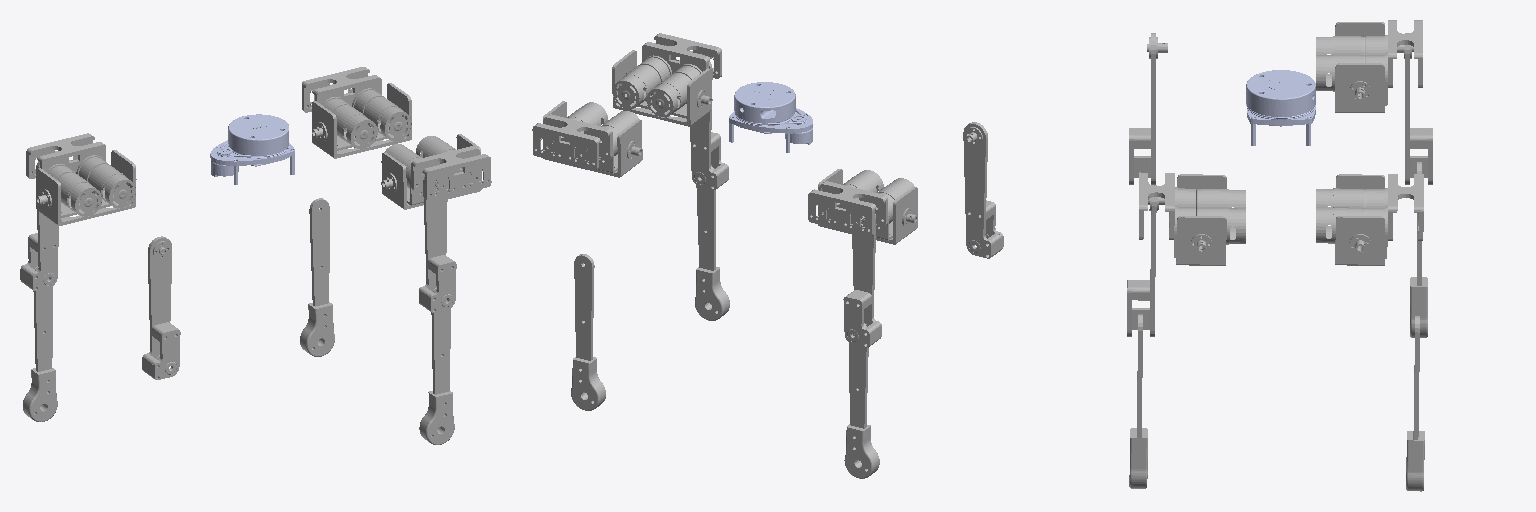
robot.urdf — train_dog_full_foot:
<?xml version="1.0" encoding="utf-8"?>
<!-- This URDF was automatically created by SolidWorks to URDF Exporter! Originally created by [author] ([email redacted]) 
     Commit Version: 1.6.0-1-g15f4949  Build Version: 1.6.7594.29634
     For more information, please see http://wiki.ros.org/sw_urdf_exporter -->
<robot
  name="train_dog_full_foot">
  <link
    name="base_link">
    <inertial>
      <origin
        xyz="0.00236489702334556 -5.91786932752081E-06 -0.0142510828075822"
        rpy="0 0 0" />
      <mass
        value="1.26277058878881" />
      <inertia
        ixx="0.00419953664437585"
        ixy="-5.80918949629586E-09"
        ixz="7.23254112115281E-06"
        iyy="0.00329637735882426"
        iyz="5.41350065733206E-10"
        izz="0.00687786867050381" />
    </inertial>
    <visual>
      <origin
        xyz="0 0 0"
        rpy="0 0 0" />
      <geometry>
        <mesh
          filename="package://train_dog_full_foot/meshes/base_link.STL" />
      </geometry>
      <material
        name="">
        <color
          rgba="0.752941176470588 0.752941176470588 0.752941176470588 1" />
      </material>
    </visual>
    <collision>
      <origin
        xyz="0 0 0"
        rpy="0 0 0" />
      <geometry>
        <mesh
          filename="package://train_dog_full_foot/meshes/base_link.STL" />
      </geometry>
    </collision>
  </link>
  <link
    name="lidar_link">
    <inertial>
      <origin
        xyz="-0.00576993166002146 -0.000337492823115196 0.0144383216860659"
        rpy="0 0 0" />
      <mass
        value="0.142992069515117" />
      <inertia
        ixx="4.62768458751422E-05"
        ixy="-8.53425878441539E-07"
        ixz="-3.62176045397522E-06"
        iyy="7.34715191336753E-05"
        iyz="2.04241589925864E-07"
        izz="0.000107957357997996" />
    </inertial>
    <visual>
      <origin
        xyz="0 0 0"
        rpy="0 0 0" />
      <geometry>
        <mesh
          filename="package://train_dog_full_foot/meshes/lidar_link.STL" />
      </geometry>
      <material
        name="">
        <color
          rgba="0.792156862745098 0.819607843137255 0.933333333333333 1" />
      </material>
    </visual>
    <collision>
      <origin
        xyz="0 0 0"
        rpy="0 0 0" />
      <geometry>
        <mesh
          filename="package://train_dog_full_foot/meshes/lidar_link.STL" />
      </geometry>
    </collision>
  </link>
  <joint
    name="lidar_joint"
    type="fixed">
    <origin
      xyz="0 0 0"
      rpy="0 0 0" />
    <parent
      link="base_link" />
    <child
      link="lidar_link" />
    <axis
      xyz="0 0 0" />
  </joint>
  <link
    name="rf_hip_link">
    <inertial>
      <origin
        xyz="0.0494730376983105 -0.0150434281833299 0.00301418526737343"
        rpy="0 0 0" />
      <mass
        value="0.110796689932406" />
      <inertia
        ixx="4.10359142267942E-05"
        ixy="9.54808544037731E-10"
        ixz="-5.49776572211449E-10"
        iyy="0.00010573669451886"
        iyz="1.80269633038169E-06"
        izz="0.000105542554331478" />
    </inertial>
    <visual>
      <origin
        xyz="0 0 0"
        rpy="0 0 0" />
      <geometry>
        <mesh
          filename="package://train_dog_full_foot/meshes/rf_hip_link.STL" />
      </geometry>
      <material
        name="">
        <color
          rgba="0.752941176470588 0.752941176470588 0.752941176470588 1" />
      </material>
    </visual>
    <collision>
      <origin
        xyz="0 0 0"
        rpy="0 0 0" />
      <geometry>
        <mesh
          filename="package://train_dog_full_foot/meshes/rf_hip_link.STL" />
      </geometry>
    </collision>
  </link>
  <joint
    name="rf_hip_joint"
    type="continuous">
    <origin
      xyz="0.1325 -0.0798899999999921 -0.0342976400491808"
      rpy="0 0 0" />
    <parent
      link="base_link" />
    <child
      link="rf_hip_link" />
    <axis
      xyz="-1 0 0" />
  </joint>
  <link
    name="rf_upper_link">
    <inertial>
      <origin
        xyz="-0.00214105775503126 0.00718603950643992 -0.084916045491464"
        rpy="0 0 0" />
      <mass
        value="0.0381858196620344" />
      <inertia
        ixx="4.56120104484874E-05"
        ixy="-2.39464031883898E-08"
        ixz="-1.71517217998475E-06"
        iyy="4.75905522135306E-05"
        iyz="-6.28798951756866E-07"
        izz="2.56040064315188E-06" />
    </inertial>
    <visual>
      <origin
        xyz="0 0 0"
        rpy="0 0 0" />
      <geometry>
        <mesh
          filename="package://train_dog_full_foot/meshes/rf_upper_link.STL" />
      </geometry>
      <material
        name="">
        <color
          rgba="0.752941176470588 0.752941176470588 0.752941176470588 1" />
      </material>
    </visual>
    <collision>
      <origin
        xyz="0 0 0"
        rpy="0 0 0" />
      <geometry>
        <mesh
          filename="package://train_dog_full_foot/meshes/rf_upper_link.STL" />
      </geometry>
    </collision>
  </link>
  <joint
    name="rf_upper_joint"
    type="continuous">
    <origin
      xyz="0.0269999999999999 -0.0628123830812422 0.0138782034736232"
      rpy="0 0 0" />
    <parent
      link="rf_hip_link" />
    <child
      link="rf_upper_link" />
    <axis
      xyz="0 0.999902556615601 -0.0139598450415945" />
  </joint>
  <link
    name="rf_lower_link">
    <inertial>
      <origin
        xyz="-0.00334779648407044 0.00988222317821961 -0.120380779073118"
        rpy="0 0 0" />
      <mass
        value="0.0434013554264772" />
      <inertia
        ixx="4.26078627929692E-05"
        ixy="-1.57182517526504E-08"
        ixz="-1.12610032464431E-06"
        iyy="4.48671704652794E-05"
        iyz="-5.7198907909598E-07"
        izz="3.90505278745092E-06" />
    </inertial>
    <visual>
      <origin
        xyz="0 0 0"
        rpy="0 0 0" />
      <geometry>
        <mesh
          filename="package://train_dog_full_foot/meshes/rf_lower_link.STL" />
      </geometry>
      <material
        name="">
        <color
          rgba="0.752941176470588 0.752941176470588 0.752941176470588 1" />
      </material>
    </visual>
    <collision>
      <origin
        xyz="0 0 0"
        rpy="0 0 0" />
      <geometry>
        <mesh
          filename="package://train_dog_full_foot/meshes/rf_lower_link.STL" />
      </geometry>
    </collision>
  </link>
  <joint
    name="rf_lower_joint"
    type="continuous">
    <origin
      xyz="0 -0.00994944374978339 -0.13957706811974"
      rpy="0 0 0" />
    <parent
      link="rf_upper_link" />
    <child
      link="rf_lower_link" />
    <axis
      xyz="0 0.999902556615601 -0.0139598450415923" />
  </joint>
  <link
    name="rh_hip_link">
    <inertial>
      <origin
        xyz="-0.0495361239995728 -0.0121004517164508 0.00333734117665012"
        rpy="0 0 0" />
      <mass
        value="0.126255489368789" />
      <inertia
        ixx="4.20937385671924E-05"
        ixy="9.26212791323576E-10"
        ixz="9.15301981486698E-09"
        iyy="0.000106862025701092"
        iyz="1.80316674432087E-06"
        izz="0.000106677222068073" />
    </inertial>
    <visual>
      <origin
        xyz="0 0 0"
        rpy="0 0 0" />
      <geometry>
        <mesh
          filename="package://train_dog_full_foot/meshes/rh_hip_link.STL" />
      </geometry>
      <material
        name="">
        <color
          rgba="0.752941176470588 0.752941176470588 0.752941176470588 1" />
      </material>
    </visual>
    <collision>
      <origin
        xyz="0 0 0"
        rpy="0 0 0" />
      <geometry>
        <mesh
          filename="package://train_dog_full_foot/meshes/rh_hip_link.STL" />
      </geometry>
    </collision>
  </link>
  <joint
    name="rh_hip_joint"
    type="continuous">
    <origin
      xyz="-0.132499999999999 -0.0798900000000018 -0.0342976400491642"
      rpy="0 0 0" />
    <parent
      link="base_link" />
    <child
      link="rh_hip_link" />
    <axis
      xyz="-1 0 0" />
  </joint>
  <link
    name="rh_upper_link">
    <inertial>
      <origin
        xyz="-0.00214105772880144 0.00837075421052934 -0.0848074541012483"
        rpy="0 0 0" />
      <mass
        value="0.0381858200550615" />
      <inertia
        ixx="4.56120104509481E-05"
        ixy="-5.31957908588165E-13"
        ixz="-1.71533933666234E-06"
        iyy="4.75993310281756E-05"
        iyz="-1.19242074978386E-12"
        izz="2.55162184449551E-06" />
    </inertial>
    <visual>
      <origin
        xyz="0 0 0"
        rpy="0 0 0" />
      <geometry>
        <mesh
          filename="package://train_dog_full_foot/meshes/rh_upper_link.STL" />
      </geometry>
      <material
        name="">
        <color
          rgba="0.752941176470588 0.752941176470588 0.752941176470588 1" />
      </material>
    </visual>
    <collision>
      <origin
        xyz="0 0 0"
        rpy="0 0 0" />
      <geometry>
        <mesh
          filename="package://train_dog_full_foot/meshes/rh_upper_link.STL" />
      </geometry>
    </collision>
  </link>
  <joint
    name="rh_upper_joint"
    type="continuous">
    <origin
      xyz="-0.0719999999999999 -0.0630000000000001 0.013"
      rpy="0 0 0" />
    <parent
      link="rh_hip_link" />
    <child
      link="rh_upper_link" />
    <axis
      xyz="0 1 0" />
  </joint>
  <link
    name="rh_lower_link">
    <inertial>
      <origin
        xyz="-0.00334779648450076 0.0115617572454009 -0.12023109445058"
        rpy="0 0 0" />
      <mass
        value="0.0434013554072694" />
      <inertia
        ixx="4.26078627989298E-05"
        ixy="3.46629055176671E-12"
        ixz="-1.12621002811449E-06"
        iyy="4.48751560924244E-05"
        iyz="2.96214287940901E-12"
        izz="3.89706717030293E-06" />
    </inertial>
    <visual>
      <origin
        xyz="0 0 0"
        rpy="0 0 0" />
      <geometry>
        <mesh
          filename="package://train_dog_full_foot/meshes/rh_lower_link.STL" />
      </geometry>
      <material
        name="">
        <color
          rgba="0.752941176470588 0.752941176470588 0.752941176470588 1" />
      </material>
    </visual>
    <collision>
      <origin
        xyz="0 0 0"
        rpy="0 0 0" />
      <geometry>
        <mesh
          filename="package://train_dog_full_foot/meshes/rh_lower_link.STL" />
      </geometry>
    </collision>
  </link>
  <joint
    name="rh_lower_joint"
    type="continuous">
    <origin
      xyz="0 -0.00799999999999998 -0.139702359950835"
      rpy="0 0 0" />
    <parent
      link="rh_upper_link" />
    <child
      link="rh_lower_link" />
    <axis
      xyz="0 1 0" />
  </joint>
  <link
    name="lf_hip_link">
    <inertial>
      <origin
        xyz="0.0495269622868718 0.0151217121138406 0.00259304376253863"
        rpy="0 0 0" />
      <mass
        value="0.110796689886985" />
      <inertia
        ixx="4.10359142199375E-05"
        ixy="9.69729499827842E-10"
        ixz="5.2287739474731E-10"
        iyy="0.000105636298090407"
        iyz="-1.805477813767E-06"
        izz="0.00010564295073898" />
    </inertial>
    <visual>
      <origin
        xyz="0 0 0"
        rpy="0 0 0" />
      <geometry>
        <mesh
          filename="package://train_dog_full_foot/meshes/lf_hip_link.STL" />
      </geometry>
      <material
        name="">
        <color
          rgba="0.752941176470588 0.752941176470588 0.752941176470588 1" />
      </material>
    </visual>
    <collision>
      <origin
        xyz="0 0 0"
        rpy="0 0 0" />
      <geometry>
        <mesh
          filename="package://train_dog_full_foot/meshes/lf_hip_link.STL" />
      </geometry>
    </collision>
  </link>
  <joint
    name="lf_hip_axis"
    type="continuous">
    <origin
      xyz="0.1325 0.0798900000000003 -0.034297640049036"
      rpy="0 0 0" />
    <parent
      link="base_link" />
    <child
      link="lf_hip_link" />
    <axis
      xyz="1 0 0" />
  </joint>
  <link
    name="lf_upper_link">
    <inertial>
      <origin
        xyz="-0.00214102966052523 -0.00955383710019811 -0.0846823076197817"
        rpy="0 0 0" />
      <mass
        value="0.0381858201318091" />
      <inertia
        ixx="4.56120134594677E-05"
        ixy="-2.39468983332409E-08"
        ixz="-1.71516304037832E-06"
        iyy="4.75905522326161E-05"
        iyz="-6.28798317008029E-07"
        izz="2.56039762142872E-06" />
    </inertial>
    <visual>
      <origin
        xyz="0 0 0"
        rpy="0 0 0" />
      <geometry>
        <mesh
          filename="package://train_dog_full_foot/meshes/lf_upper_link.STL" />
      </geometry>
      <material
        name="">
        <color
          rgba="0.752941176470588 0.752941176470588 0.752941176470588 1" />
      </material>
    </visual>
    <collision>
      <origin
        xyz="0 0 0"
        rpy="0 0 0" />
      <geometry>
        <mesh
          filename="package://train_dog_full_foot/meshes/lf_upper_link.STL" />
      </geometry>
    </collision>
  </link>
  <joint
    name="lf_upper_joint"
    type="continuous">
    <origin
      xyz="0.0270000000000001 0.063175339052324 0.0121192629983798"
      rpy="0 0 0" />
    <parent
      link="lf_hip_link" />
    <child
      link="lf_upper_link" />
    <axis
      xyz="0 0.9999025566156 -0.013959845041636" />
  </joint>
  <link
    name="lf_lower_link">
    <inertial>
      <origin
        xyz="-0.00128752893325759 -0.0132396087168402 -0.120097682803769"
        rpy="0 0 0" />
      <mass
        value="0.0434013551251362" />
      <inertia
        ixx="4.26350835926029E-05"
        ixy="-6.45248605016384E-09"
        ixz="-4.6241549094332E-07"
        iyy="4.48671652118525E-05"
        iyz="-5.72369079427161E-07"
        izz="3.87783728399397E-06" />
    </inertial>
    <visual>
      <origin
        xyz="0 0 0"
        rpy="0 0 0" />
      <geometry>
        <mesh
          filename="package://train_dog_full_foot/meshes/lf_lower_link.STL" />
      </geometry>
      <material
        name="">
        <color
          rgba="0.752941176470588 0.752941176470588 0.752941176470588 1" />
      </material>
    </visual>
    <collision>
      <origin
        xyz="0 0 0"
        rpy="0 0 0" />
      <geometry>
        <mesh
          filename="package://train_dog_full_foot/meshes/lf_lower_link.STL" />
      </geometry>
    </collision>
  </link>
  <joint
    name="lf_lower_joint"
    type="continuous">
    <origin
      xyz="0 0.00604899715606039 -0.139800425640405"
      rpy="0 0 0" />
    <parent
      link="lf_upper_link" />
    <child
      link="lf_lower_link" />
    <axis
      xyz="0 0.9999025566156 -0.0139598450416295" />
  </joint>
  <link
    name="lh_hip_link">
    <inertial>
      <origin
        xyz="-0.0682977197756154 0.00736289871080689 0.00219420910931623"
        rpy="0 0 0" />
      <mass
        value="0.110796690015489" />
      <inertia
        ixx="4.10359143914822E-05"
        ixy="9.62413318054567E-10"
        ixz="5.35910546571565E-10"
        iyy="0.000105686627480097"
        iyz="-1.80445846591125E-06"
        izz="0.000105592621445254" />
    </inertial>
    <visual>
      <origin
        xyz="0 0 0"
        rpy="0 0 0" />
      <geometry>
        <mesh
          filename="package://train_dog_full_foot/meshes/lh_hip_link.STL" />
      </geometry>
      <material
        name="">
        <color
          rgba="0.752941176470588 0.752941176470588 0.752941176470588 1" />
      </material>
    </visual>
    <collision>
      <origin
        xyz="0 0 0"
        rpy="0 0 0" />
      <geometry>
        <mesh
          filename="package://train_dog_full_foot/meshes/lh_hip_link.STL" />
      </geometry>
    </collision>
  </link>
  <joint
    name="lh_hip_joint"
    type="continuous">
    <origin
      xyz="-0.113675317925363 0.0876111412863929 -0.0336879615739561"
      rpy="0 0 0" />
    <parent
      link="base_link" />
    <child
      link="lh_hip_link" />
    <axis
      xyz="1 0 0" />
  </joint>
  <link
    name="lh_upper_link">
    <inertial>
      <origin
        xyz="-0.0209657117362281 -0.0160918954585264 -0.0854171046294276"
        rpy="0 0 0" />
      <mass
        value="0.0381858200550616" />
      <inertia
        ixx="4.5612013465939E-05"
        ixy="-1.15444746288948E-12"
        ixz="-1.7153302049211E-06"
        iyy="4.75993310281756E-05"
        iyz="-5.14326205635148E-13"
        izz="2.55161882950459E-06" />
    </inertial>
    <visual>
      <origin
        xyz="0 0 0"
        rpy="0 0 0" />
      <geometry>
        <mesh
          filename="package://train_dog_full_foot/meshes/lh_upper_link.STL" />
      </geometry>
      <material
        name="">
        <color
          rgba="0.752941176470588 0.752941176470588 0.752941176470588 1" />
      </material>
    </visual>
    <collision>
      <origin
        xyz="0 0 0"
        rpy="0 0 0" />
      <geometry>
        <mesh
          filename="package://train_dog_full_foot/meshes/lh_upper_link.STL" />
      </geometry>
    </collision>
  </link>
  <joint
    name="lh_upper_joint"
    type="continuous">
    <origin
      xyz="-0.072 0.063 0.0130000000000001"
      rpy="0 0 0" />
    <parent
      link="lh_hip_link" />
    <child
      link="lh_upper_link" />
    <axis
      xyz="0 1 0" />
  </joint>
  <link
    name="lh_lower_link">
    <inertial>
      <origin
        xyz="-0.0201122110084878 -0.0192829148462543 -0.120880481432438"
        rpy="0 0 0" />
      <mass
        value="0.0434013551054436" />
      <inertia
        ixx="4.26350835988829E-05"
        ixy="3.39146873072345E-12"
        ixz="-4.62460518016543E-07"
        iyy="4.48751561449661E-05"
        iyz="2.92422848361983E-12"
        izz="3.86984636070521E-06" />
    </inertial>
    <visual>
      <origin
        xyz="0 0 0"
        rpy="0 0 0" />
      <geometry>
        <mesh
          filename="package://train_dog_full_foot/meshes/lh_lower_link.STL" />
      </geometry>
      <material
        name="">
        <color
          rgba="0.752941176470588 0.752941176470588 0.752941176470588 1" />
      </material>
    </visual>
    <collision>
      <origin
        xyz="0 0 0"
        rpy="0 0 0" />
      <geometry>
        <mesh
          filename="package://train_dog_full_foot/meshes/lh_lower_link.STL" />
      </geometry>
    </collision>
  </link>
  <joint
    name="lh_lower_joint"
    type="continuous">
    <origin
      xyz="0 0.008 -0.1397"
      rpy="0 0 0" />
    <parent
      link="lh_upper_link" />
    <child
      link="lh_lower_link" />
    <axis
      xyz="0 1 0" />
  </joint>
</robot>

--- Render facts (derived) ---
The picture shows the robot from 3 angles, left to right: view 1: azimuth 30°, elevation 25°; view 2: azimuth 150°, elevation 25°; view 3: azimuth 270°, elevation 25°; orthographic projection.
Robot: train_dog_full_foot — 14 links, 13 joints (12 continuous, 1 fixed); root link base_link; default pose: all joints at 0.
Links seen in each view (by area): view 1: lh_hip_link, lf_hip_link, rf_hip_link, lidar_link, rh_upper_link, lf_lower_link, rf_upper_link, rf_lower_link, lh_lower_link, lh_upper_link; view 2: rf_hip_link, lf_hip_link, lh_hip_link, lidar_link, rh_upper_link, lf_lower_link, lh_upper_link, lh_lower_link, rf_lower_link, rf_upper_link; view 3: lf_hip_link, rf_hip_link, lh_hip_link, lidar_link, rh_upper_link, rf_upper_link, lh_upper_link, rf_lower_link, lf_lower_link, lh_lower_link.
Boxes of the visible links, box(x1,y1,x2,y2) form: lh_hip_link: box(26, 133, 136, 225); lf_hip_link: box(302, 67, 411, 158); rf_hip_link: box(381, 134, 491, 209); lidar_link: box(210, 114, 294, 184); rh_upper_link: box(142, 236, 180, 379); lf_lower_link: box(300, 198, 334, 356); rf_upper_link: box(419, 177, 456, 312); rf_lower_link: box(419, 288, 454, 444); lh_lower_link: box(23, 267, 57, 421); lh_upper_link: box(20, 161, 58, 290); rf_hip_link: box(612, 33, 721, 126); lf_hip_link: box(532, 101, 642, 177); lh_hip_link: box(808, 169, 917, 244); lidar_link: box(729, 82, 812, 152); rh_upper_link: box(963, 122, 1003, 258); lf_lower_link: box(571, 254, 605, 410); lh_upper_link: box(843, 214, 881, 347); lh_lower_link: box(844, 323, 879, 478); rf_lower_link: box(695, 166, 729, 320); rf_upper_link: box(690, 62, 728, 189); lf_hip_link: box(1316, 174, 1423, 265); rf_hip_link: box(1139, 172, 1245, 265); lh_hip_link: box(1316, 20, 1422, 112); lidar_link: box(1246, 70, 1315, 145); rh_upper_link: box(1129, 33, 1167, 184); rf_upper_link: box(1127, 185, 1164, 336); lh_upper_link: box(1397, 33, 1432, 184); rf_lower_link: box(1129, 314, 1147, 488); lf_lower_link: box(1406, 316, 1424, 491); lh_lower_link: box(1410, 162, 1427, 337).
Bounding box of the posed robot: 0.491 × 0.3087 × 0.3779 m (x, y, z).
10 mesh visuals loaded from 14 distinct referenced files (10 binary STL); not drawn: 4 (reference not matched to a file when rendering).